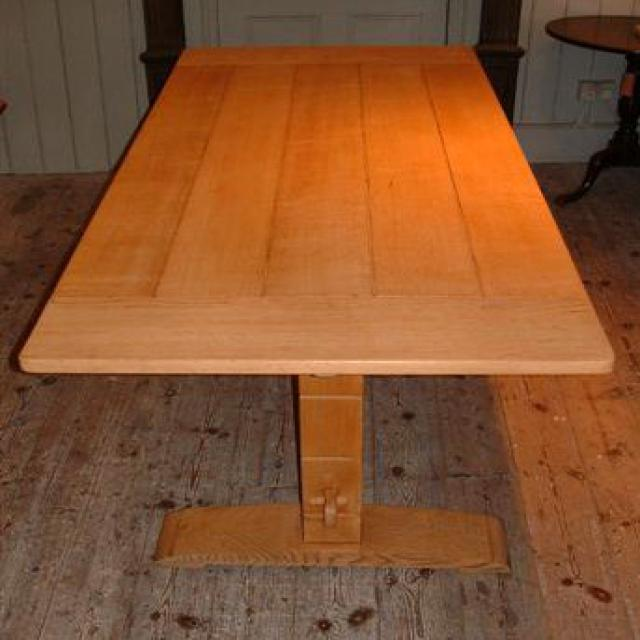table: (13, 42, 616, 573), (543, 12, 640, 215)
